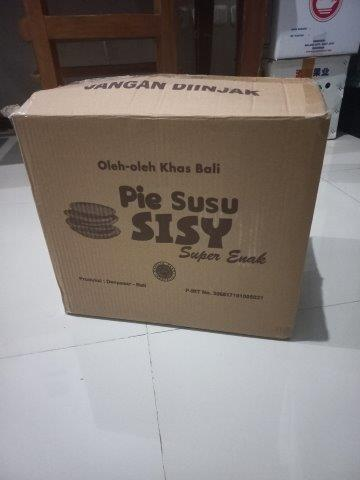kardus: (10, 75, 329, 342)
